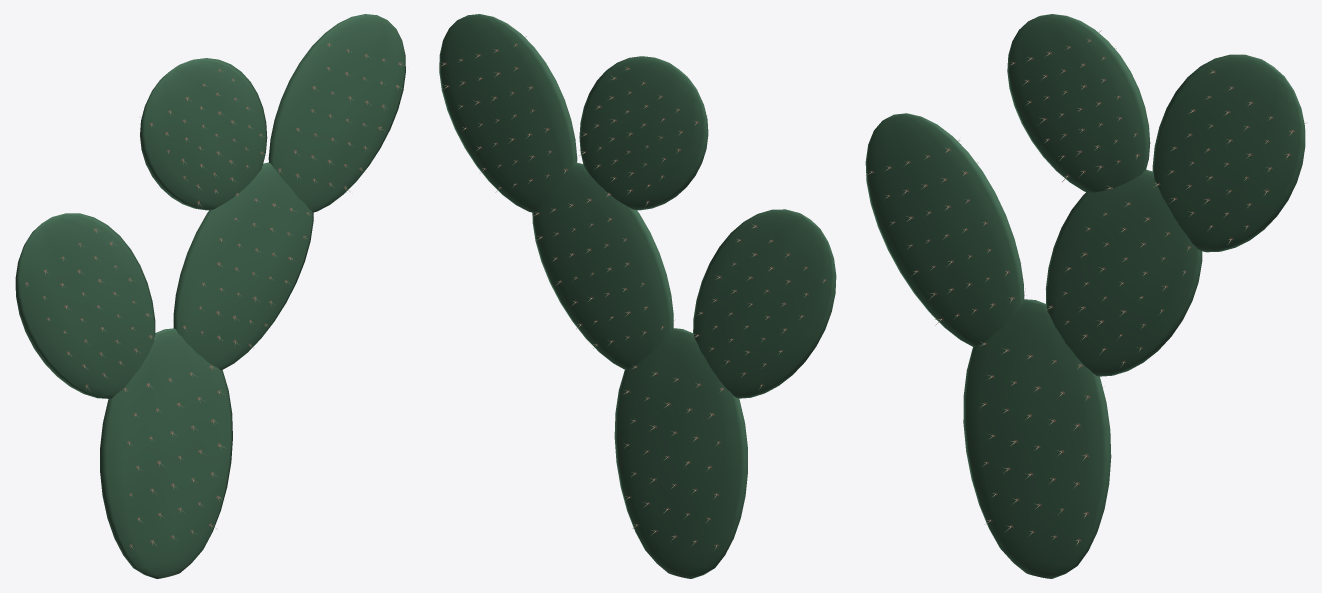
The model's file is cactuspad.glb.
The picture shows the model from 3 angles, left to right: view 1: azimuth 30°, elevation 25°; view 2: azimuth 150°, elevation 25°; view 3: azimuth 330°, elevation 25°; orthographic projection. The views are drawn at different scales.
Visible parts, largest first — view 1: CactusBodies, CactusAreoles; view 2: CactusBodies, CactusAreoles; view 3: CactusBodies, CactusAreoles.
Part boxes in pixels (x1,y1,x2,y2): CactusBodies: (15,14,405,578); CactusAreoles: (25,43,404,549); CactusBodies: (439,14,836,578); CactusAreoles: (439,36,826,550); CactusBodies: (865,14,1305,578); CactusAreoles: (866,30,1305,545).
Bounding box in the file's own units: 0.5606 × 0.7 × 0.0633.
